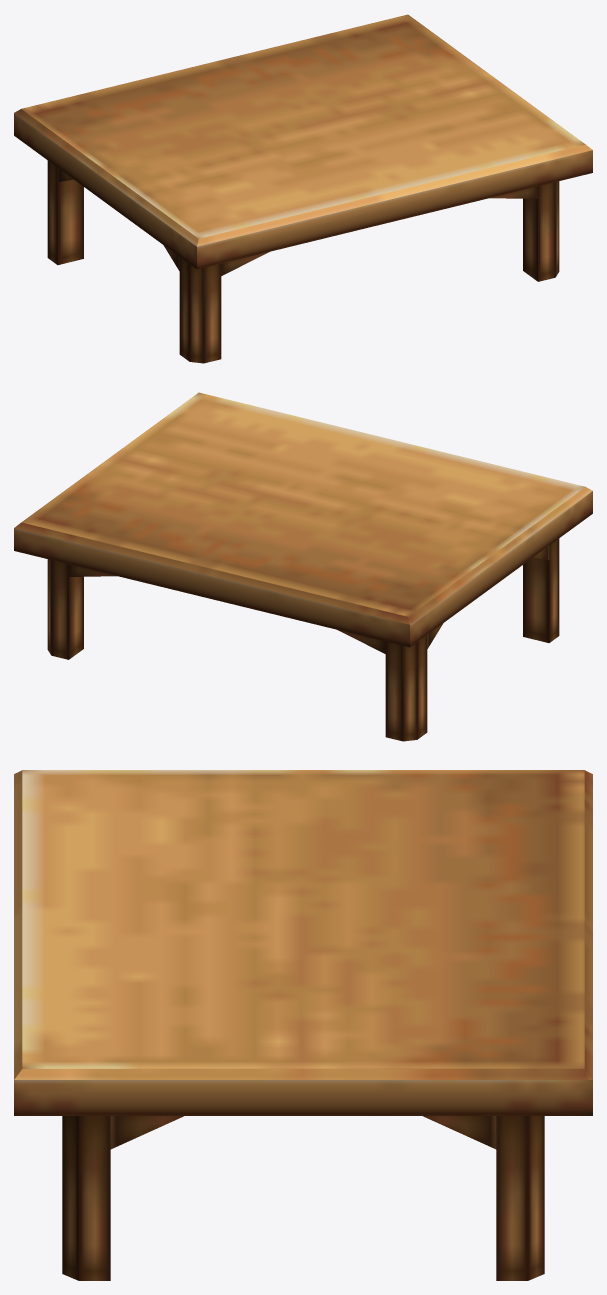
Rendered from Inside_Poly_Table_01.obj.
The picture shows the model from 3 angles, top to bottom: view 1: azimuth 30°, elevation 25°; view 2: azimuth 150°, elevation 25°; view 3: azimuth 270°, elevation 25°; orthographic projection. The views are drawn at different scales.
Visible parts, largest first — view 1: Cube, Cube.001, Cube.002; view 2: Cube, Cube.001, Cube.002; view 3: Cube, Cube.001, Cube.002.
Part boxes in pixels (box(x1,y1,x2,y2)): Cube: box(14, 14, 592, 269); Cube.001: box(47, 160, 559, 363); Cube.002: box(57, 168, 537, 275); Cube: box(14, 392, 592, 647); Cube.001: box(47, 538, 559, 741); Cube.002: box(69, 546, 549, 653); Cube: box(14, 770, 592, 1115); Cube.001: box(62, 1116, 544, 1280); Cube.002: box(110, 1116, 496, 1149).
Bounding box in the file's own units: 1.5 × 0.5 × 1.2.
1 material, 1 textured.
